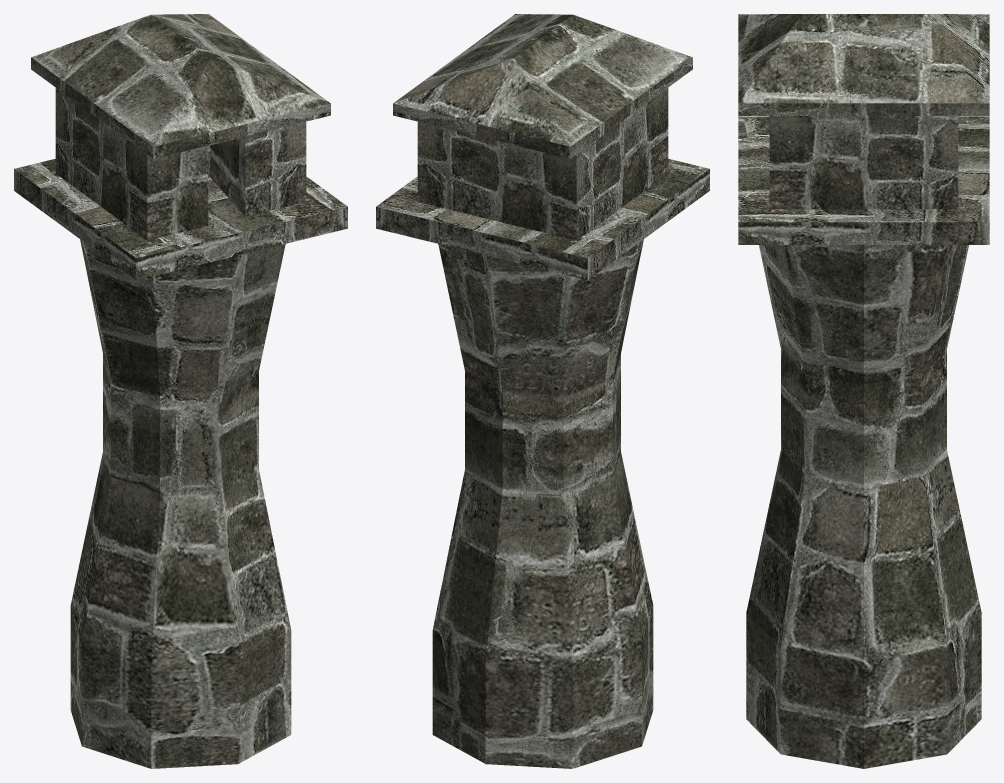
Rendered from mailbox-spirit-cottage.dae.
3 views of the same model, side by side, from view 1: azimuth 30°, elevation 25°; view 2: azimuth 150°, elevation 25°; view 3: azimuth 270°, elevation 25° (orthographic). The views are drawn at different scales.
Parts seen in each view (by area): view 1: mailbox; view 2: mailbox; view 3: mailbox.
Boxes of the visible parts, box(x1,y1,x2,y2) form: mailbox: box(14, 14, 347, 768); mailbox: box(376, 14, 709, 768); mailbox: box(738, 14, 989, 768).
Bounding box in the file's own units: 3.56 × 11.01 × 3.56.
Materials: 1 (1 with a texture image).
